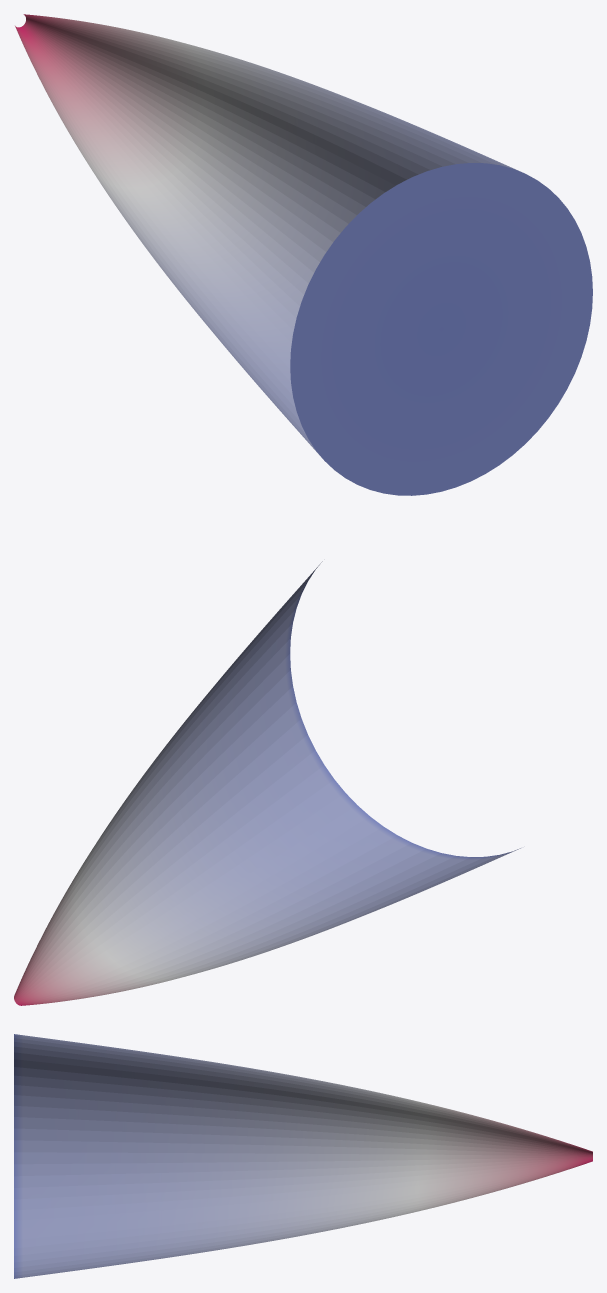
Rendered from frame_014.glb.
3 views of the same model, one above another, from view 1: azimuth 30°, elevation 25°; view 2: azimuth 150°, elevation 25°; view 3: azimuth 270°, elevation 25° (orthographic). The views are drawn at different scales.
Parts seen in each view (by area): view 1: world; view 2: world; view 3: world.
Boxes of the visible parts, box(x1,y1,x2,y2) form: world: box(15, 14, 592, 495); world: box(14, 561, 520, 1005); world: box(14, 1034, 592, 1278).
Bounding box in the file's own units: 0.4148 × 0.4251 × 1.
